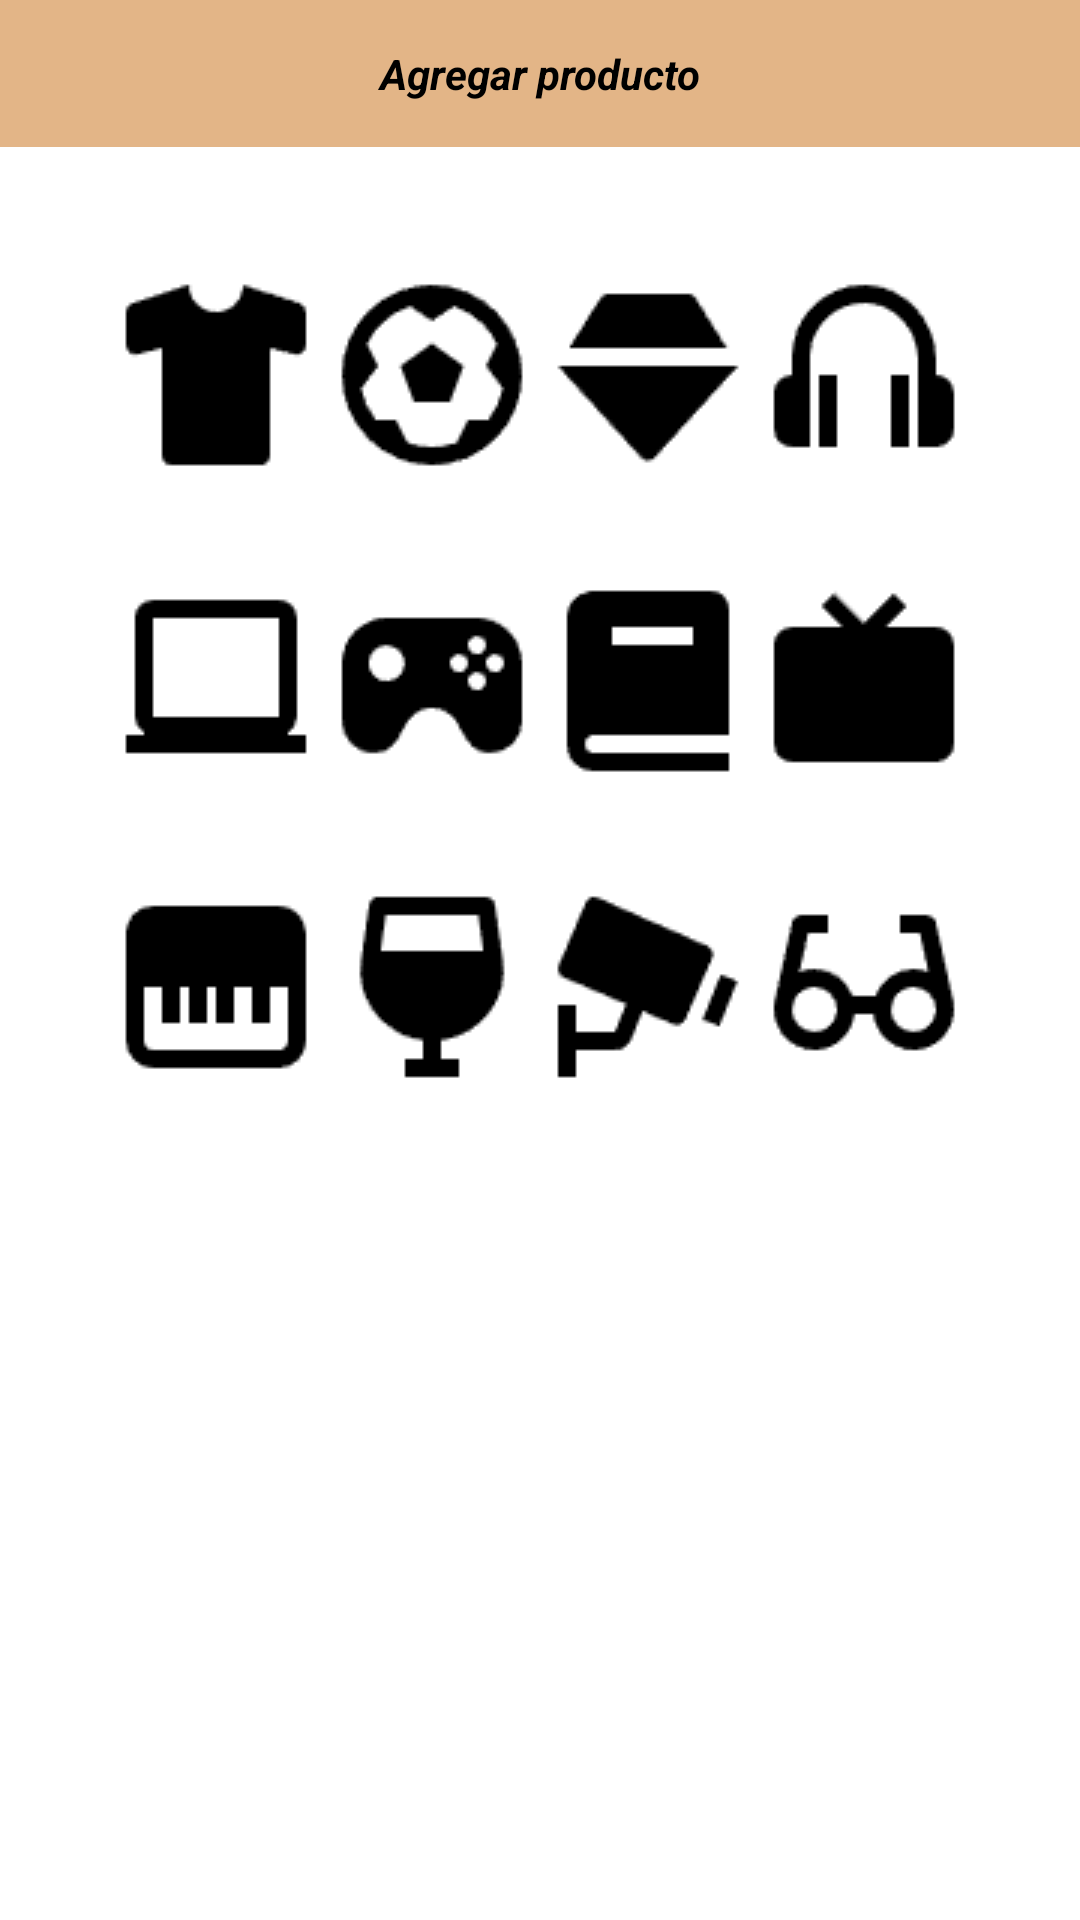

Where to tap for icons on this 1080 × 1920 app screen, as [x,y]:
audifono: [864,366]
camara: [648,987]
camiseta: [216,375]
computadora: [216,676]
deporte: [432,375]
joyas: [648,378]
juego: [432,685]
lentes: [864,982]
libro: [648,681]
licores: [432,987]
musica: [216,987]
television: [864,677]
